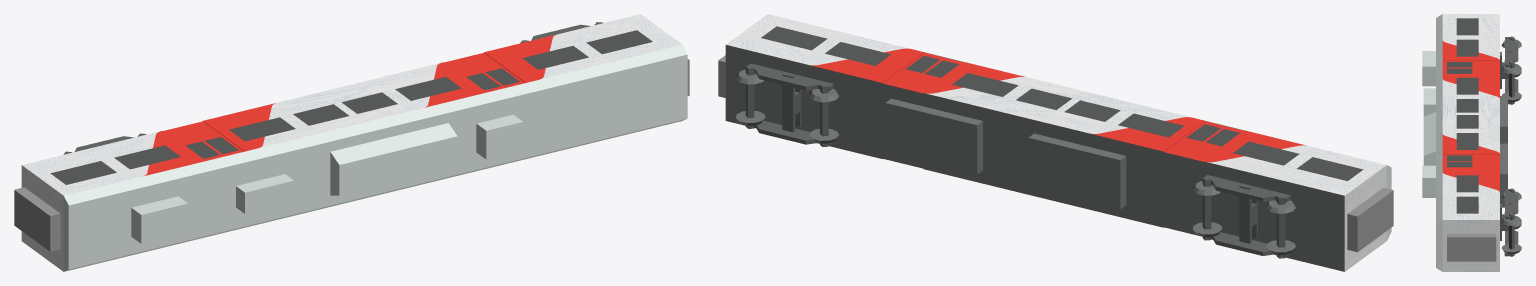
Rendered from passenger_car_4_state_1.dae.
3 renders of one model, left to right at view 1: azimuth 30°, elevation 25°; view 2: azimuth 150°, elevation 25°; view 3: azimuth 270°, elevation 25°, orthographic. The views are drawn at different scales.
Parts seen in each view (by area): view 1: coords_ME_ID161_MA_material_2, coords_ME_ID183_MA_material_4, coords_ME_ID235_MA_material_2, coords_ME_ID183_MA_material_5, coords_ME_ID153_MA_material_1, coords_ME_ID217_MA_material_1, coords_ME_ID193_MA_material_2, coords_ME_ID277_MA_material_6, coords_ME_ID321_MA_material_2, coords_ME_ID211_MA_material_2, coords_ME_ID339_MA_material_3, coords_ME_ID303_MA_material_3 (+6 smaller); view 2: coords_ME_ID265_MA_material_0, coords_ME_ID183_MA_material_4, coords_ME_ID199_MA_material_0, coords_ME_ID177_MA_material_0, coords_ME_ID183_MA_material_5, coords_ME_ID153_MA_material_1, coords_ME_ID217_MA_material_1, coords_ME_ID277_MA_material_6, coords_ME_ID12_MA_material, coords_ME_ID87_MA_material, coords_ME_ID93_MA_material, coords_ME_ID18_MA_material (+14 smaller); view 3: coords_ME_ID183_MA_material_4, coords_ME_ID183_MA_material_5, coords_ME_ID161_MA_material_2, coords_ME_ID153_MA_material_1, coords_ME_ID217_MA_material_1, coords_ME_ID357_MA_material_6, coords_ME_ID235_MA_material_2, coords_ME_ID193_MA_material_2, coords_ME_ID321_MA_material_2, coords_ME_ID177_MA_material_0, coords_ME_ID369_MA_material_3, coords_ME_ID339_MA_material_3 (+24 smaller).
Part boxes in pixels (x1,y1,x2,y2): coords_ME_ID161_MA_material_2: (63,44,687,271); coords_ME_ID183_MA_material_4: (21,14,682,271); coords_ME_ID235_MA_material_2: (330,123,457,195); coords_ME_ID183_MA_material_5: (22,15,680,269); coords_ME_ID153_MA_material_1: (425,34,556,107); coords_ME_ID217_MA_material_1: (144,103,275,175); coords_ME_ID193_MA_material_2: (131,196,188,243); coords_ME_ID277_MA_material_6: (14,187,60,251); coords_ME_ID321_MA_material_2: (476,114,523,159); coords_ME_ID211_MA_material_2: (236,174,294,213); coords_ME_ID339_MA_material_3: (586,30,652,54); coords_ME_ID303_MA_material_3: (114,145,180,169); coords_ME_ID265_MA_material_0: (725,45,1344,271); coords_ME_ID183_MA_material_4: (726,14,1386,271); coords_ME_ID199_MA_material_0: (1028,133,1126,209); coords_ME_ID177_MA_material_0: (885,98,982,174); coords_ME_ID183_MA_material_5: (728,14,1386,267); coords_ME_ID153_MA_material_1: (809,48,1024,93); coords_ME_ID217_MA_material_1: (1091,117,1306,162); coords_ME_ID277_MA_material_6: (1347,187,1393,252); coords_ME_ID12_MA_material: (1204,175,1290,202); coords_ME_ID87_MA_material: (747,63,833,91); coords_ME_ID93_MA_material: (782,73,801,132); coords_ME_ID18_MA_material: (1239,184,1257,243); coords_ME_ID183_MA_material_4: (1442,14,1499,271); coords_ME_ID183_MA_material_5: (1442,14,1499,271); coords_ME_ID161_MA_material_2: (1436,14,1442,271); coords_ME_ID153_MA_material_1: (1442,134,1499,191); coords_ME_ID217_MA_material_1: (1442,41,1499,98); coords_ME_ID357_MA_material_6: (1447,233,1496,261); coords_ME_ID235_MA_material_2: (1423,112,1435,165); coords_ME_ID193_MA_material_2: (1422,51,1435,86); coords_ME_ID321_MA_material_2: (1422,165,1435,197); coords_ME_ID177_MA_material_0: (1500,143,1507,207); coords_ME_ID369_MA_material_3: (1456,175,1478,192); coords_ME_ID339_MA_material_3: (1456,196,1478,213).
Bounding box in the file's own units: 250 × 28.51 × 49.45.
